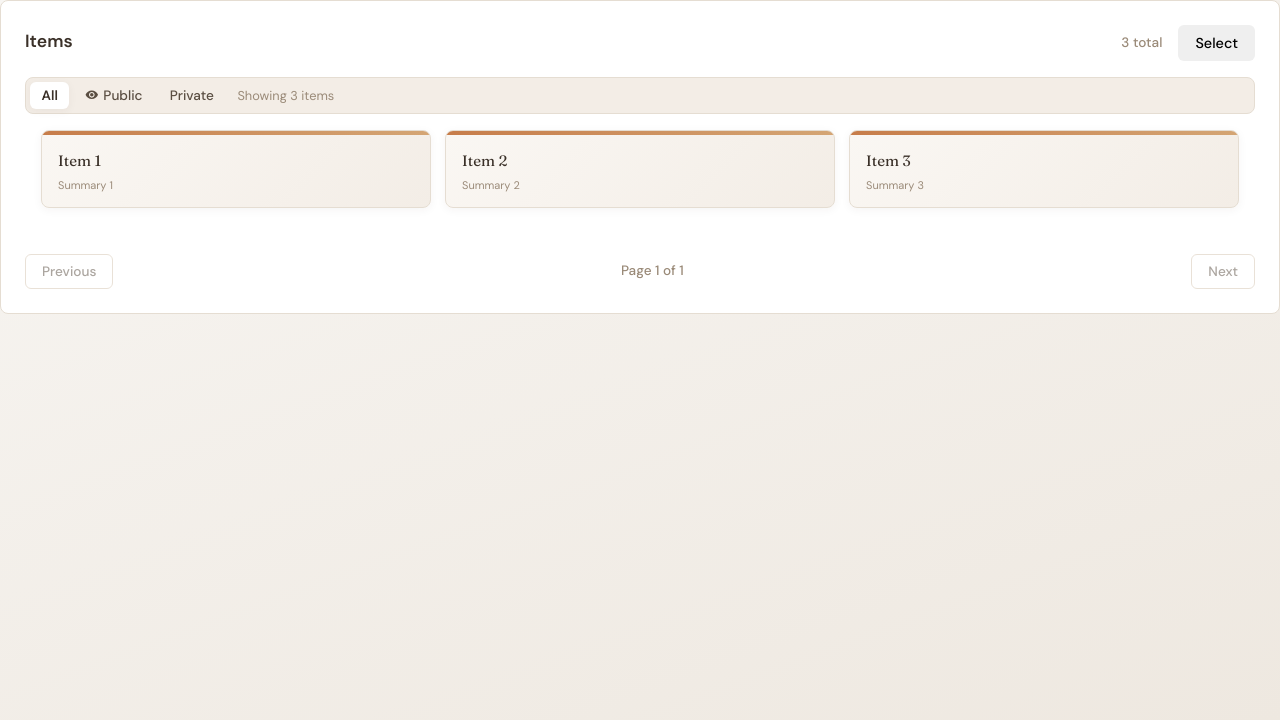
Test: ItemList › selection mode and bulk actions › should exit selection mode when clicking Cancel in BulkActionBar
Click the button "Select": (1217, 43) [1178,25,1255,61]
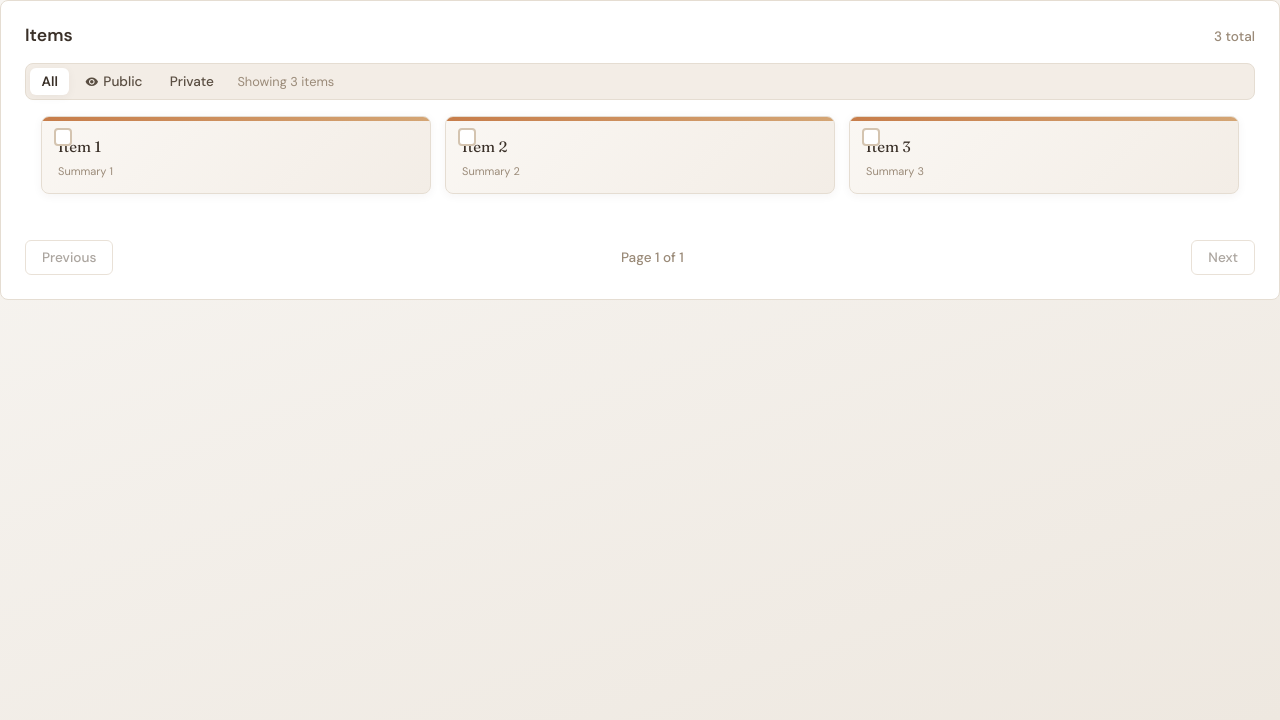
Click the button with aria-label "Select Item 1": (80, 147) [58,137,101,156]
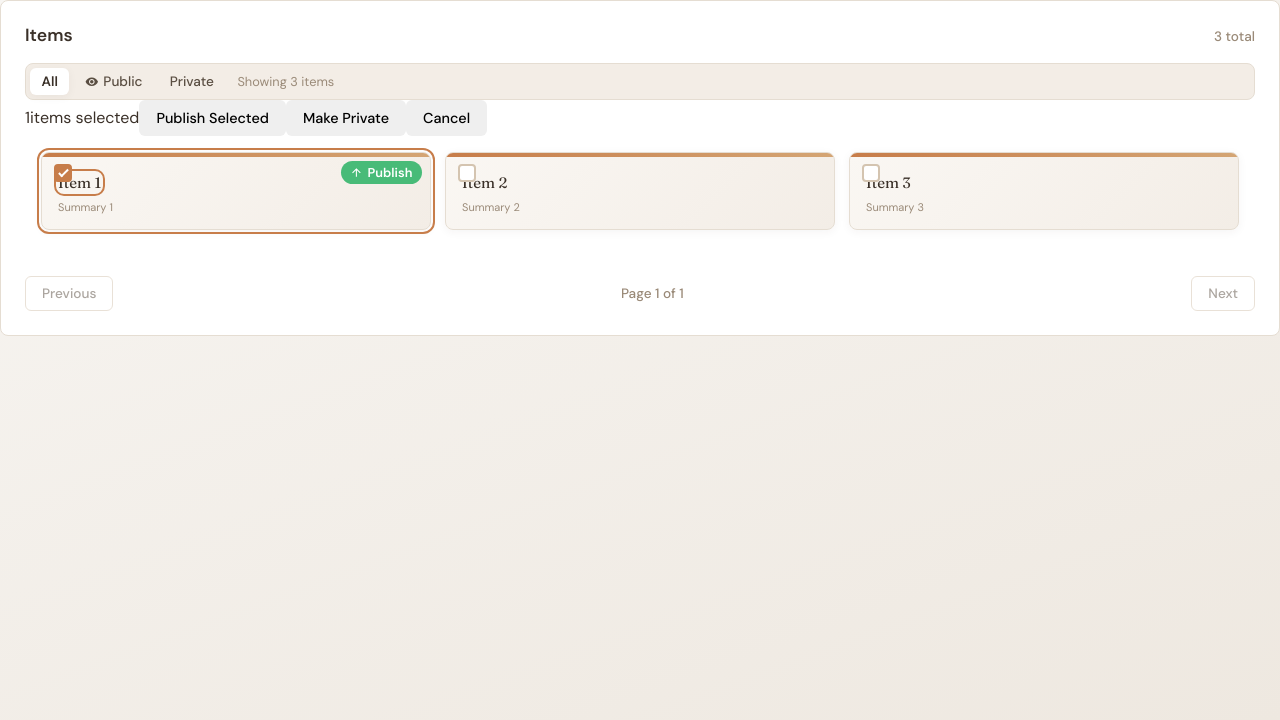
Click the button "Cancel": (446, 118) [406,100,487,136]
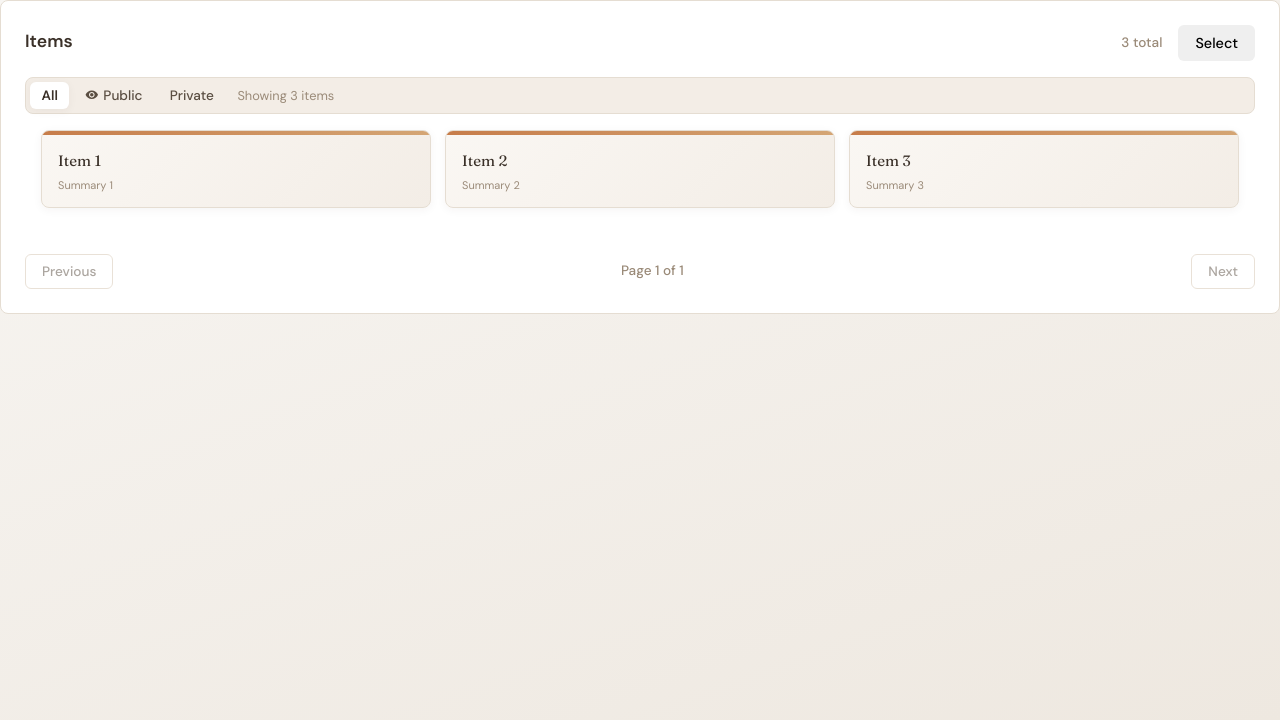
Check: no checkboxes are shown
